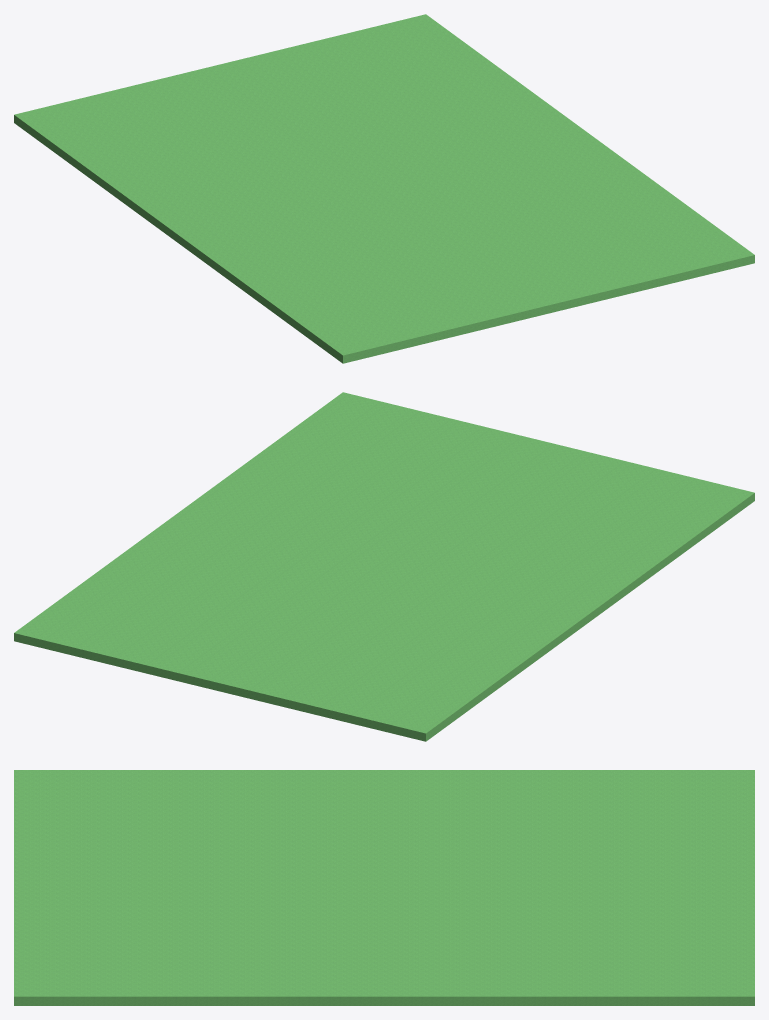
The model's file is Island Grass.fbx.
The picture shows the model from 3 angles, top to bottom: view 1: azimuth 30°, elevation 25°; view 2: azimuth 150°, elevation 25°; view 3: azimuth 270°, elevation 25°; orthographic projection. The views are drawn at different scales.
Parts seen in each view (by area): view 1: Grass; view 2: Grass; view 3: Grass.
Boxes of the visible parts, left/top/right/bottom form: Grass: left=14, top=14, right=754, bottom=363; Grass: left=14, top=392, right=754, bottom=741; Grass: left=14, top=770, right=754, bottom=1005.
Bounding box in the file's own units: 4115 × 78.74 × 5692.
